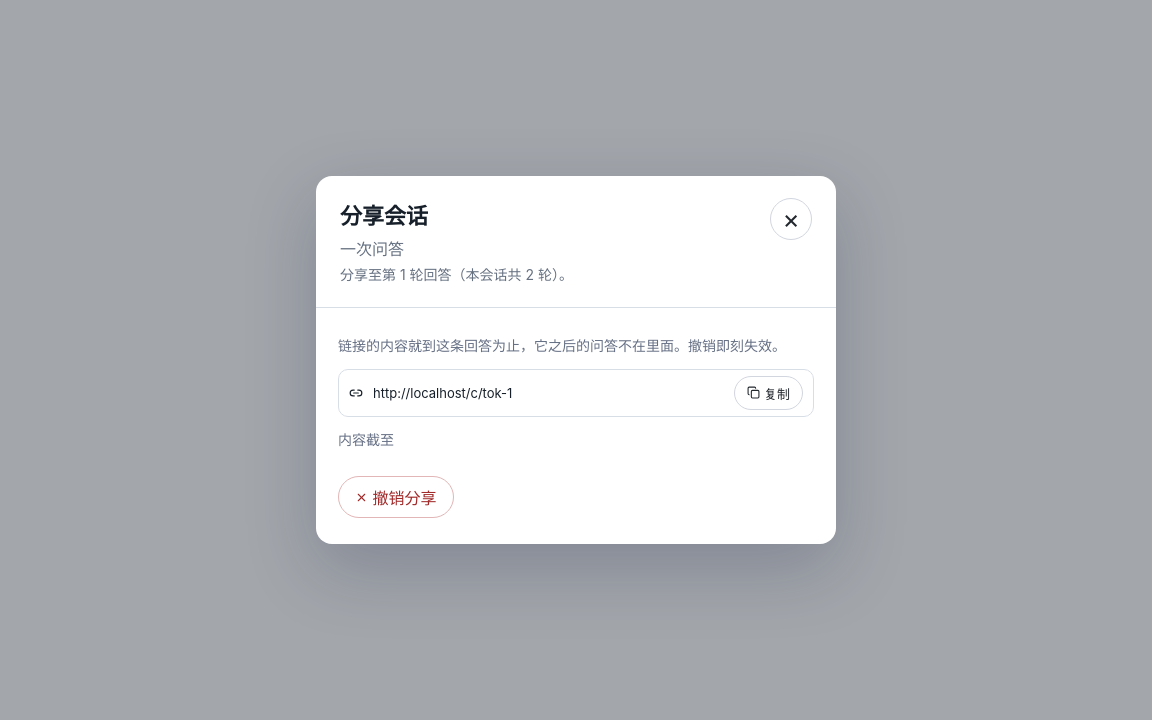
Test case: 复核时发现已在别处撤销：拦下复制，界面回到未分享
Click the button "复制".
click(769, 393)  # box left=734, top=376, right=803, bottom=410
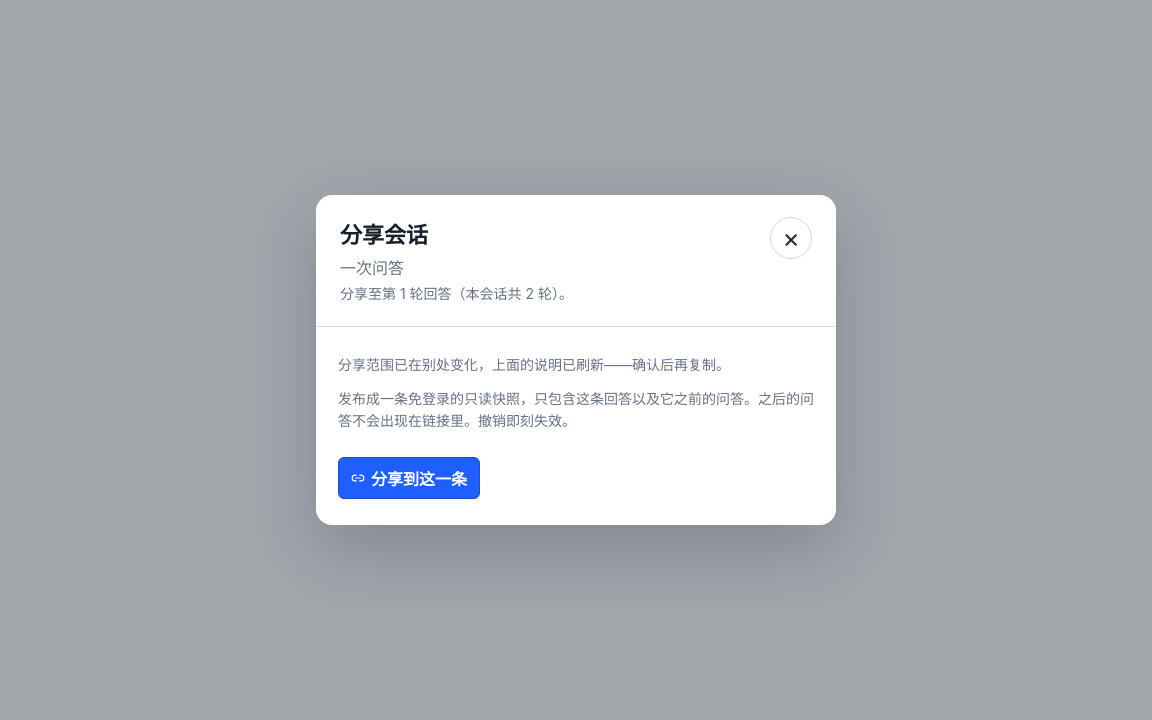
Check: the text "分享范围已在别处变化，上面的说明已刷新——确认后再复制。" is shown, box left=338, top=356, right=730, bottom=373
Check: the button "分享到这一条" is shown, box left=338, top=457, right=480, bottom=499
